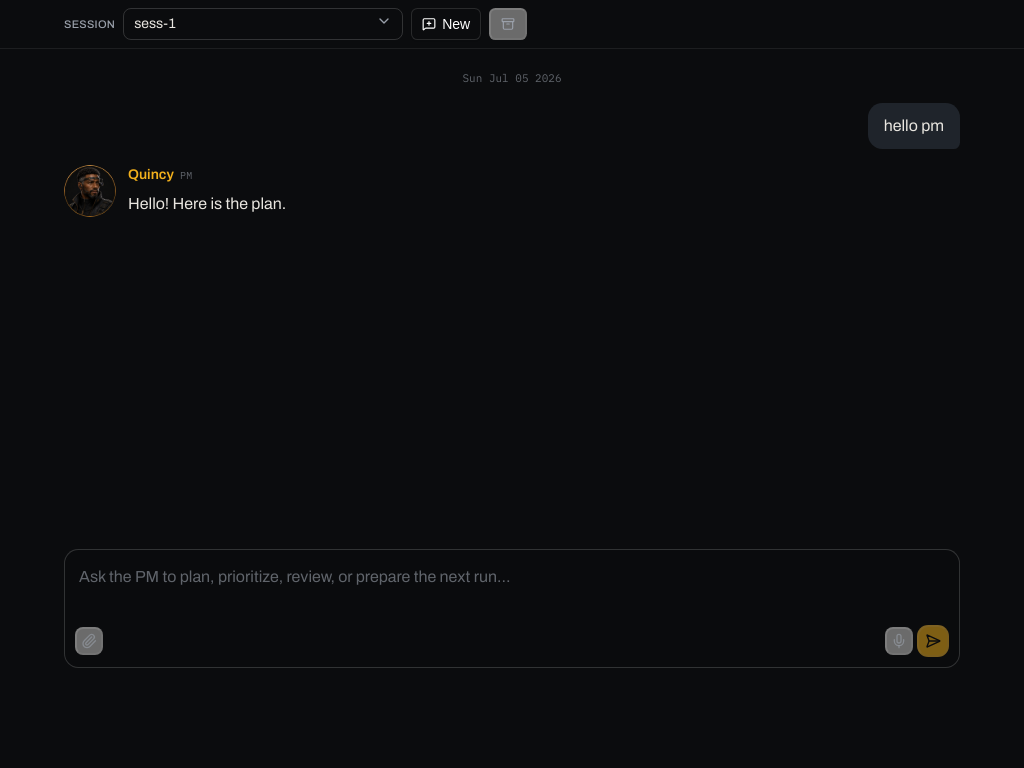
PM workspace › changeset card: approve applies the whole changeset once and locks the card
Expected: the text "hello pm" is shown, [868,103,960,149]
Replace the text in the text box with placeholder "Ask the PM" with "plan it" at {"x": 512, "y": 586}, box [65,550,959,622]
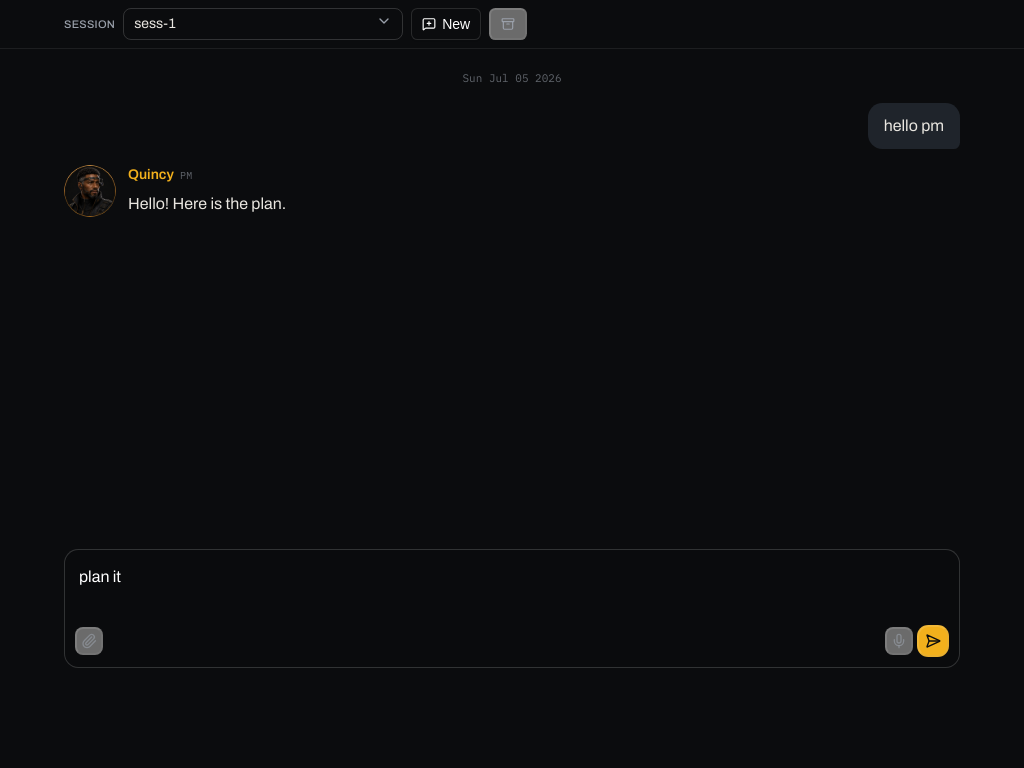
Click the button named "Send message to the PM" at {"x": 933, "y": 641}, box [917,625,949,657]
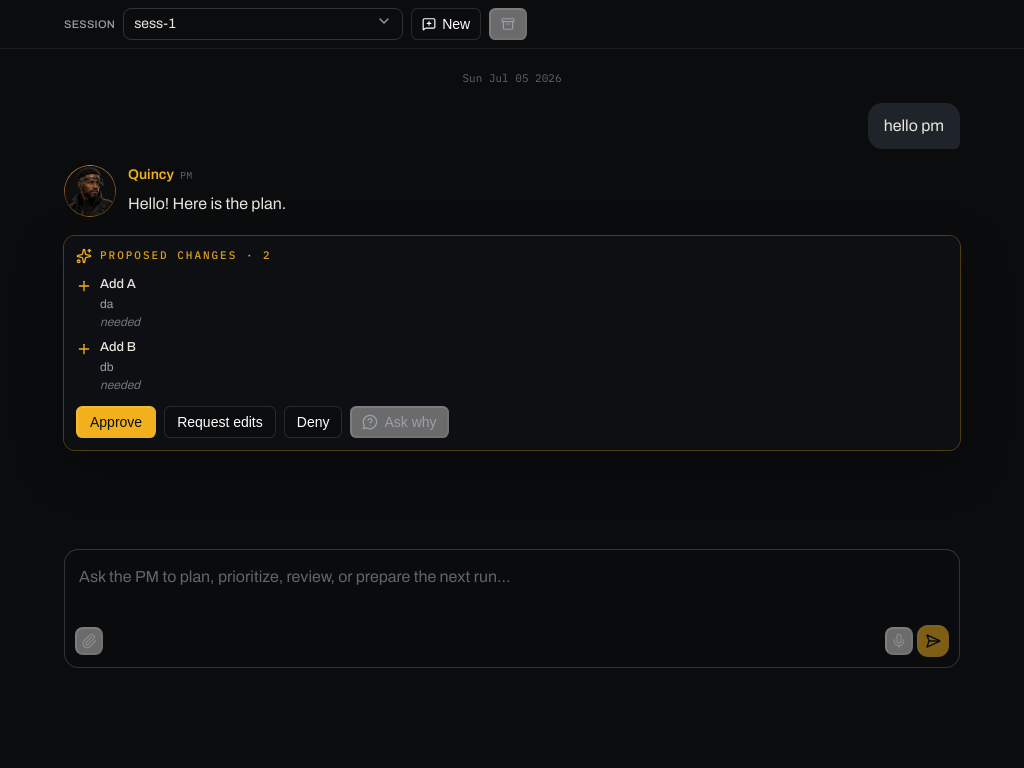
Result: the text "Proposed changes · 2" is shown at [76,248,272,264]
Click the button "Approve" at {"x": 116, "y": 422}, box [76,406,156,438]
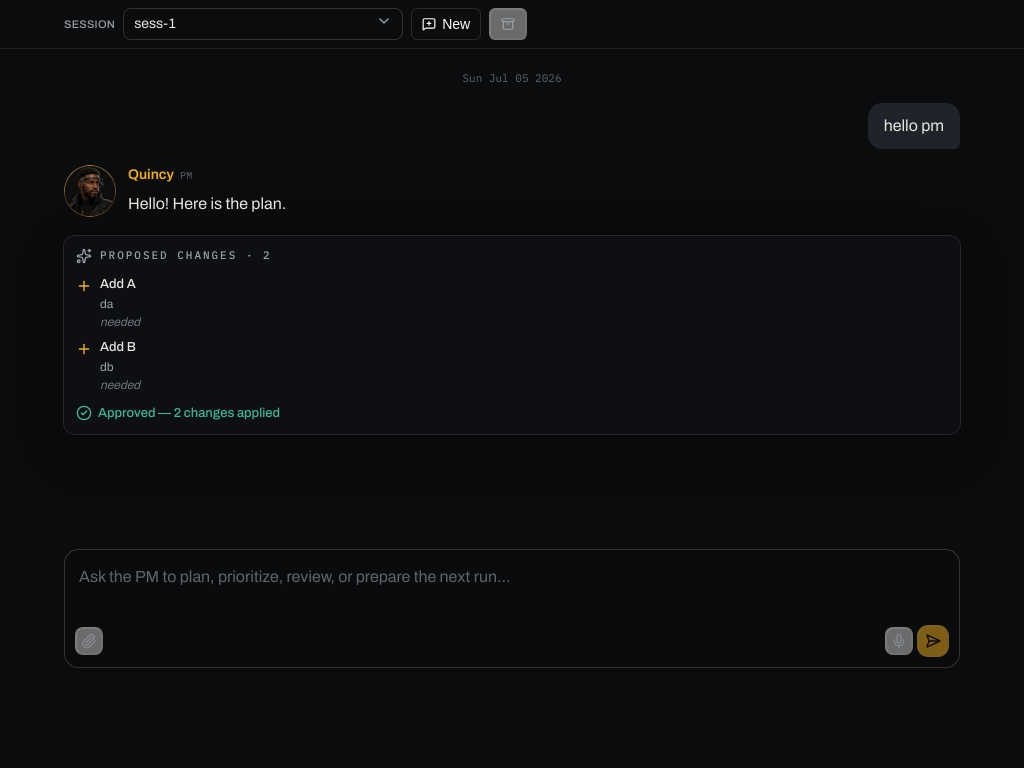
Result: the text "Approved — 2 changes applied" is shown at [76,405,280,421]
Result: the button "Deny" is gone
